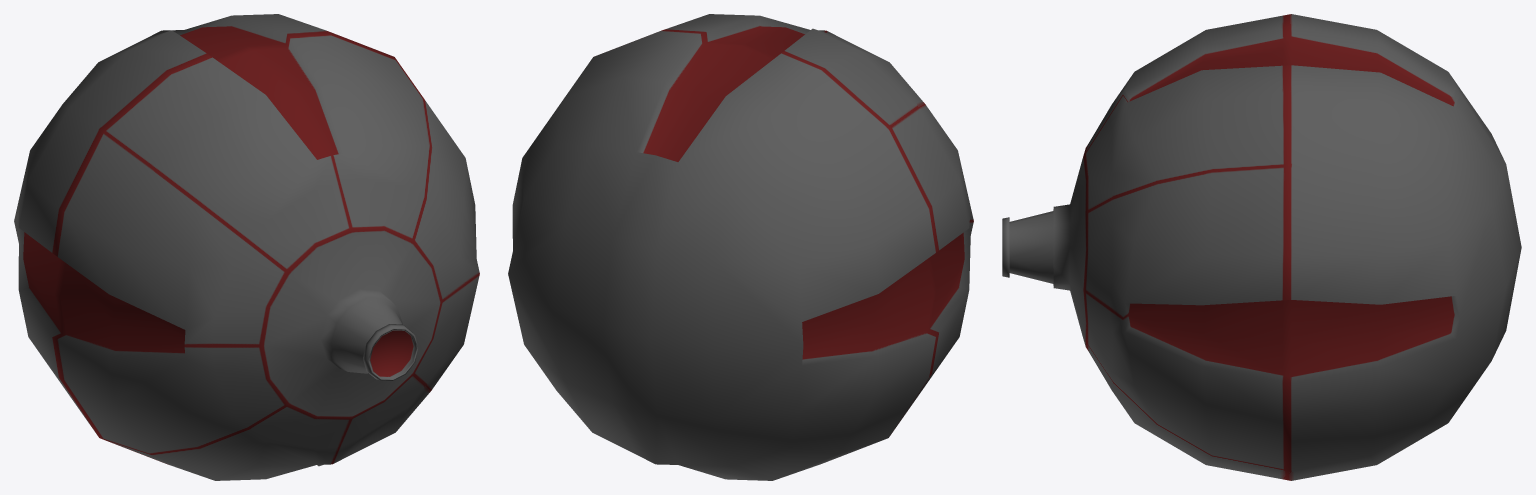
Rendered from laser.fbx.
The picture shows the model from 3 angles, left to right: view 1: azimuth 30°, elevation 25°; view 2: azimuth 150°, elevation 25°; view 3: azimuth 270°, elevation 25°; orthographic projection.
Parts seen in each view (by area): view 1: laser; view 2: laser; view 3: laser.
Boxes of the visible parts, <box> form: laser: <box>14,14,479,480</box>; laser: <box>508,14,973,480</box>; laser: <box>1002,14,1521,480</box>.
Bounding box in the file's own units: 4.24 × 4.24 × 4.95.
1 material, 1 textured.
